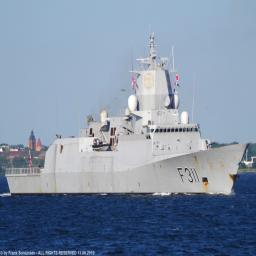Fragata: (6, 37, 252, 199)
